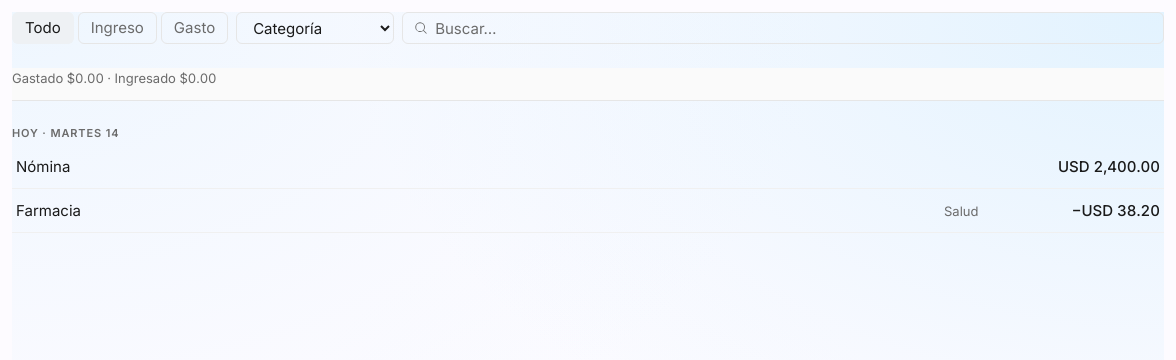
Historial — Checkpoint IV-B: filas interactivas, expansión en línea con Editar › clic en una fila de GASTO la expande mostrando su categoría
This screenshot has width=1176, height=360.
Check: the text "Categoría: Salud" is not shown
Click the button "Farmacia Salud −USD 38.20" at (48, 210), box 12,189 -> 1164,233
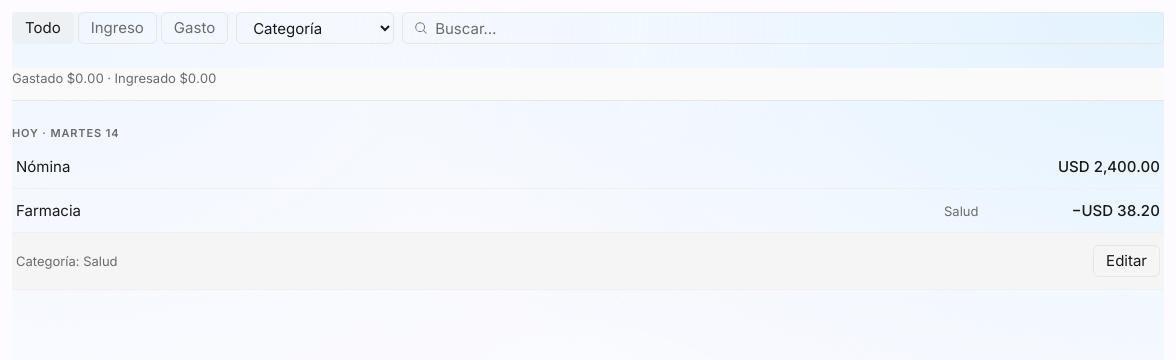
Check: the text "Categoría: Salud" is shown, box 16,251 -> 118,271
